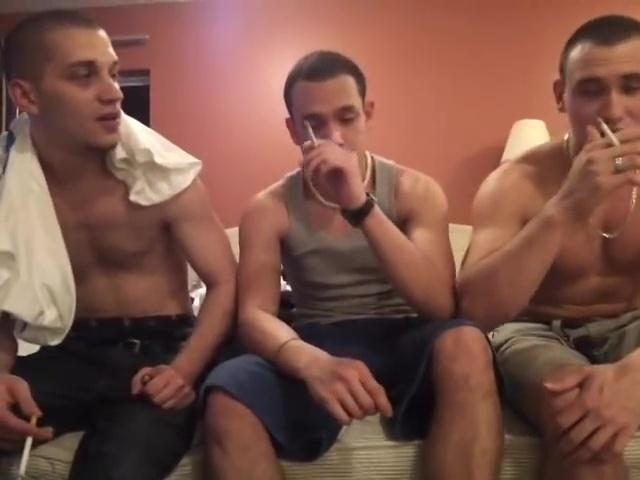cigarette: (17, 414, 39, 480), (597, 115, 622, 147), (304, 117, 318, 149)
